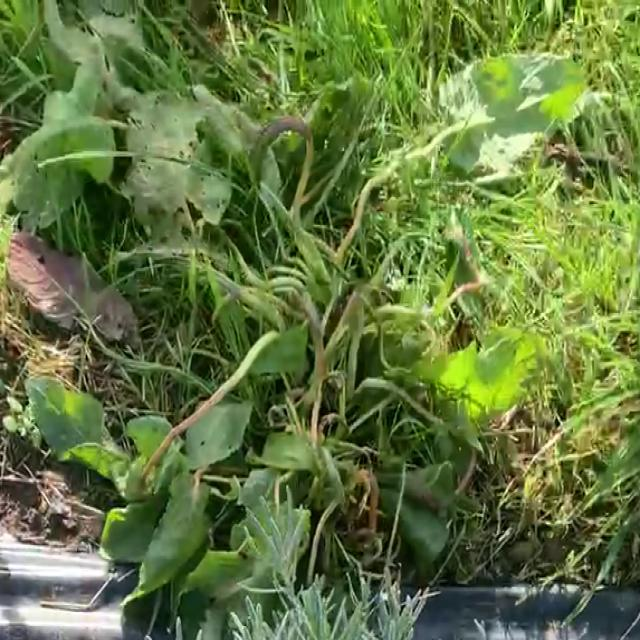organic waste: (0, 0, 609, 640)
